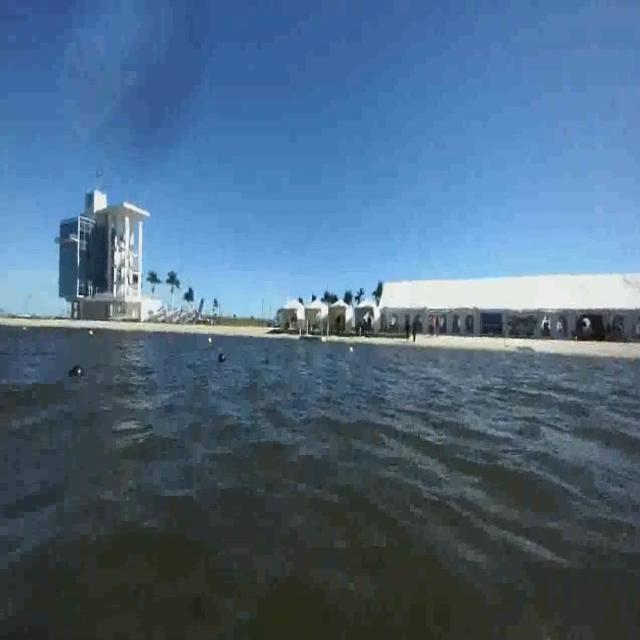black-buoy: (69, 359, 85, 380)
